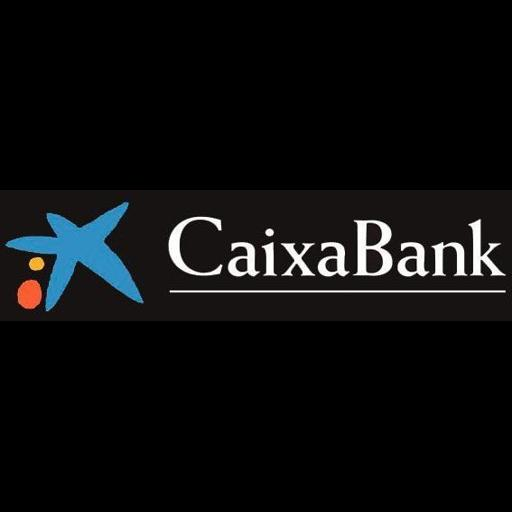CaixaBank: (0, 190, 512, 321)
